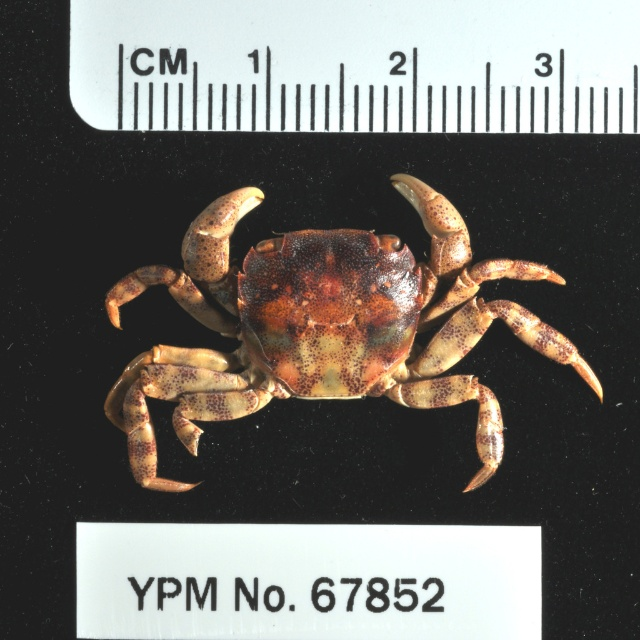Crab: (95, 176, 603, 492)
